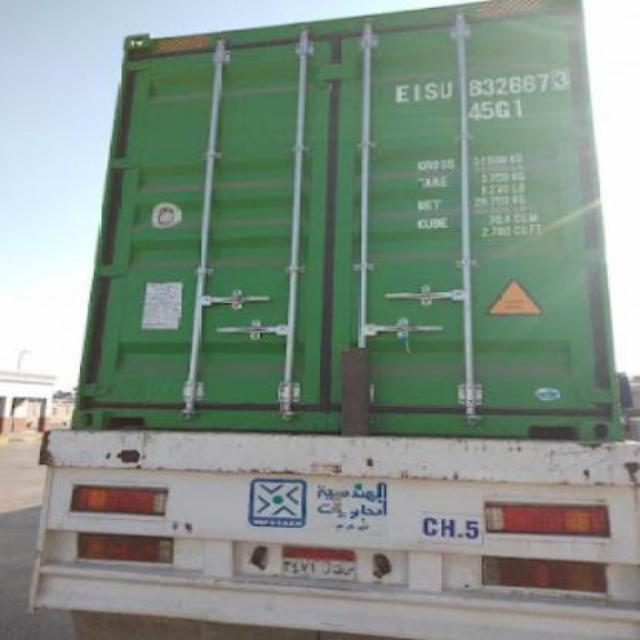2: (494, 76, 510, 94)
3: (554, 70, 570, 90), (482, 78, 496, 94)
6: (522, 73, 538, 93), (508, 75, 522, 93)
7: (536, 72, 550, 92)
8: (468, 78, 482, 96)
E: (392, 84, 412, 104)
I: (412, 84, 424, 105)
S: (424, 81, 438, 101)
U: (438, 79, 456, 99)
